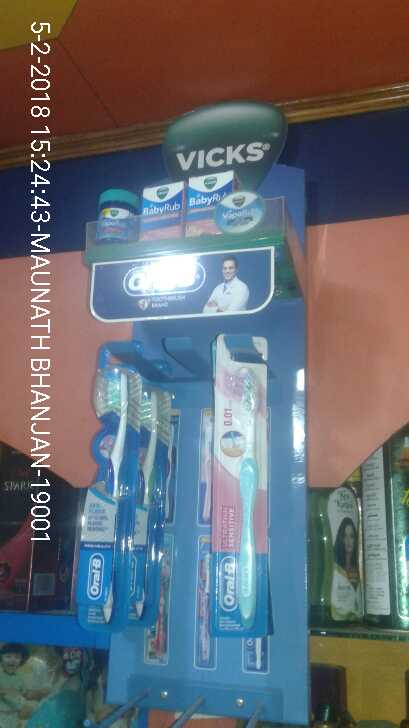pharmacy: (77, 361, 151, 630), (217, 365, 278, 645), (81, 169, 136, 245), (183, 172, 240, 234), (138, 182, 181, 242)
